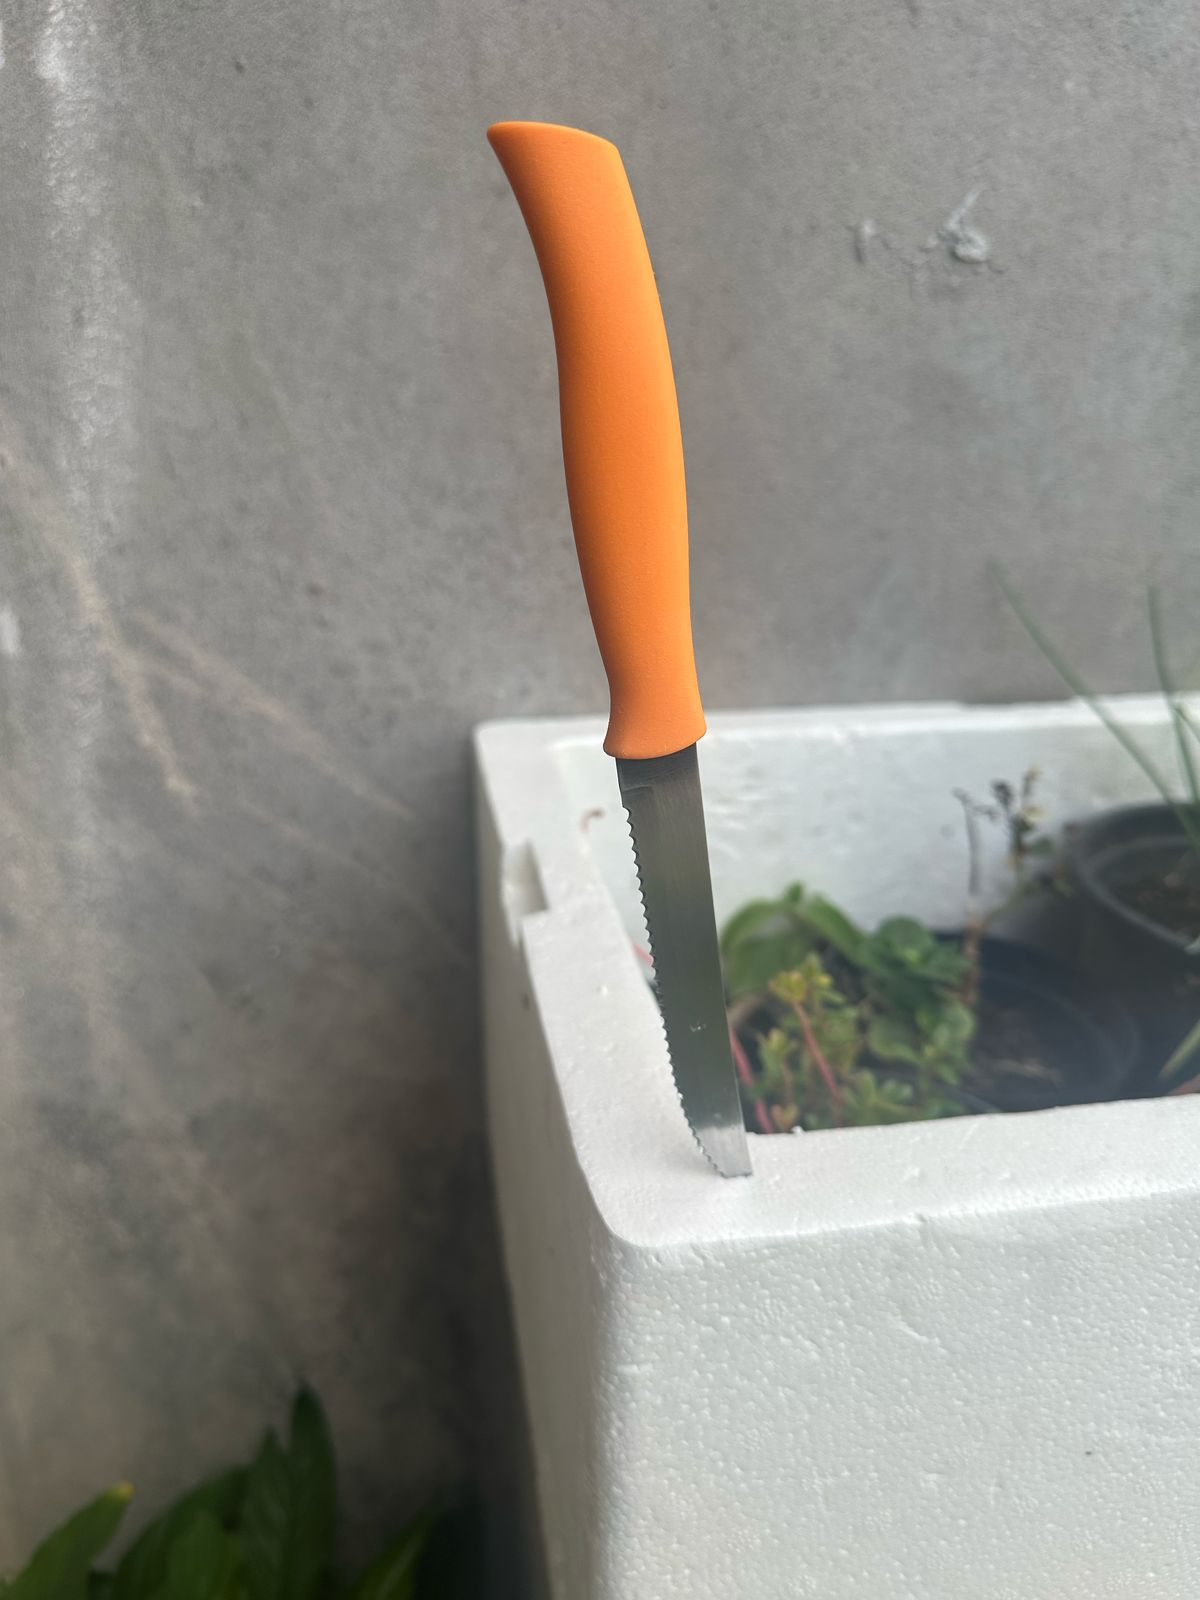faca: (474, 115, 758, 1183)
